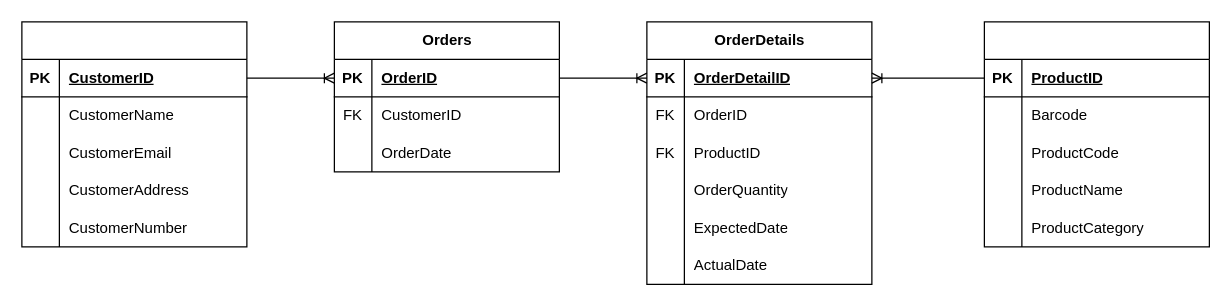
This 1231x306 diagram has some shape labels left out. Here are the shapes that lost their labels. From the top down, the box of each, then its label:
(21, 21, 247, 247): Customers
(983, 21, 1209, 247): Products
